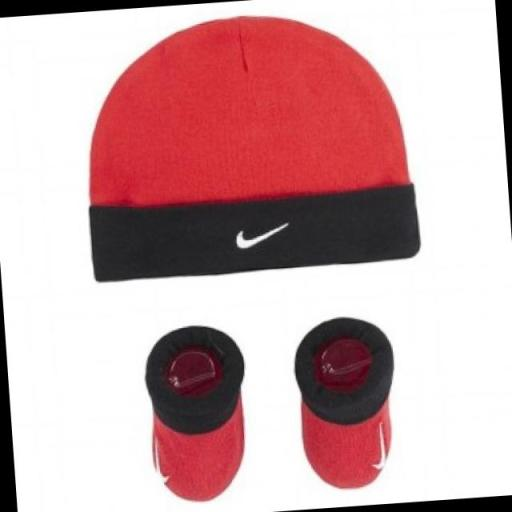Nike: (229, 218, 295, 252)
